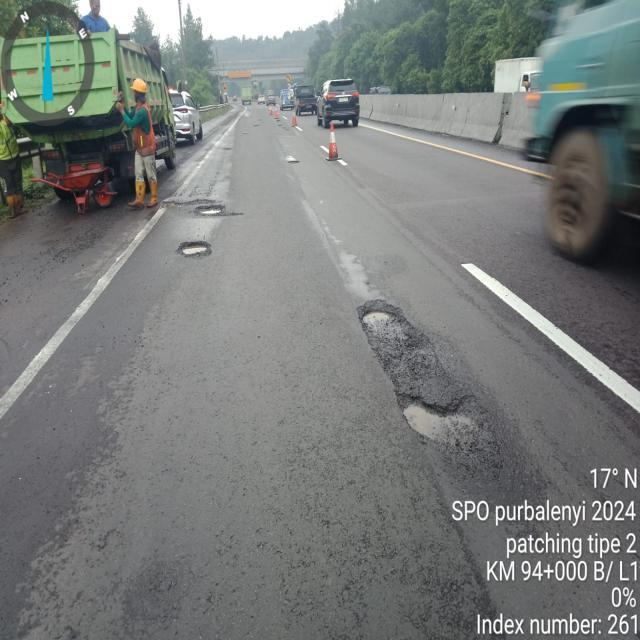Buraco: (392, 390, 504, 458), (353, 297, 418, 345), (192, 203, 245, 218), (158, 198, 217, 210), (176, 240, 213, 258), (286, 160, 301, 166)
